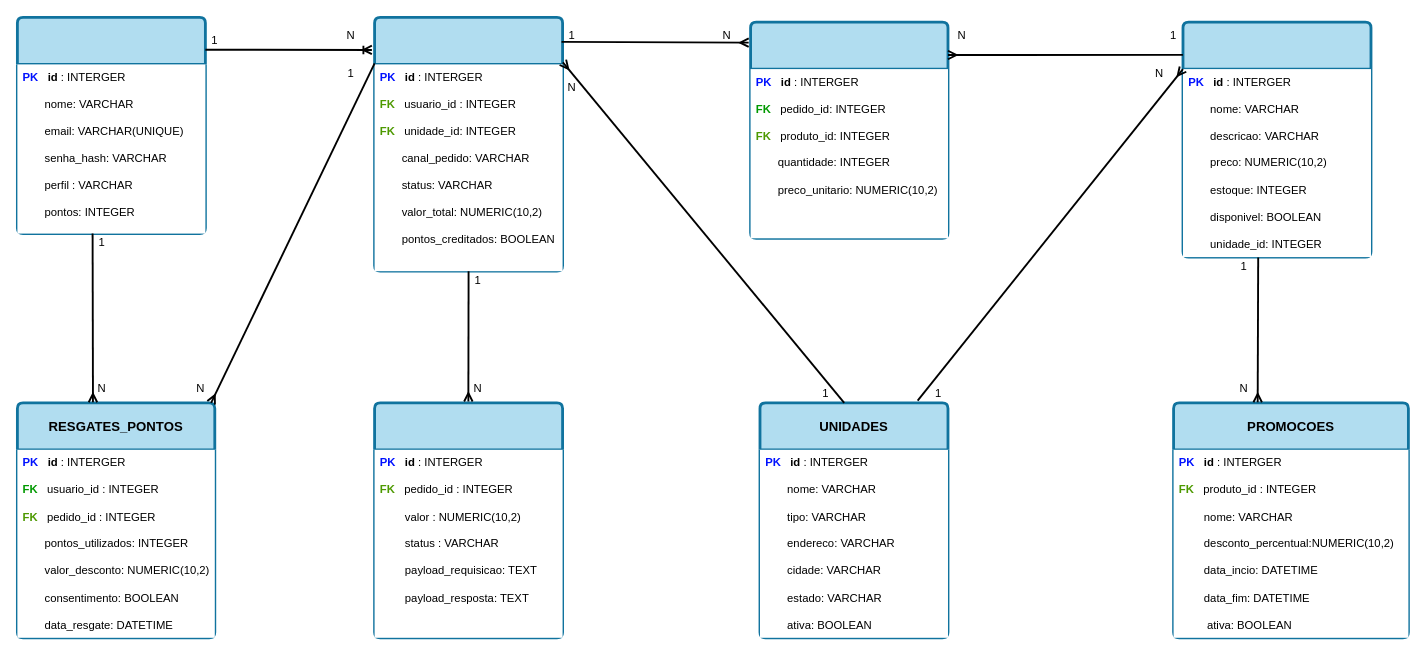
Some shapes in this 1426 by 655 pixel diagram are drawn without their labels. Here are the shapes that lost their labels. From the top down, the box of each, then its label:
(16, 16, 206, 235): USUARIOS
(373, 16, 564, 272): PEDIDOS
(749, 20, 949, 239): PEDIDO_ITENS
(1181, 20, 1372, 258): PRODUTOS
(373, 401, 564, 639): PAGAMENTOS
